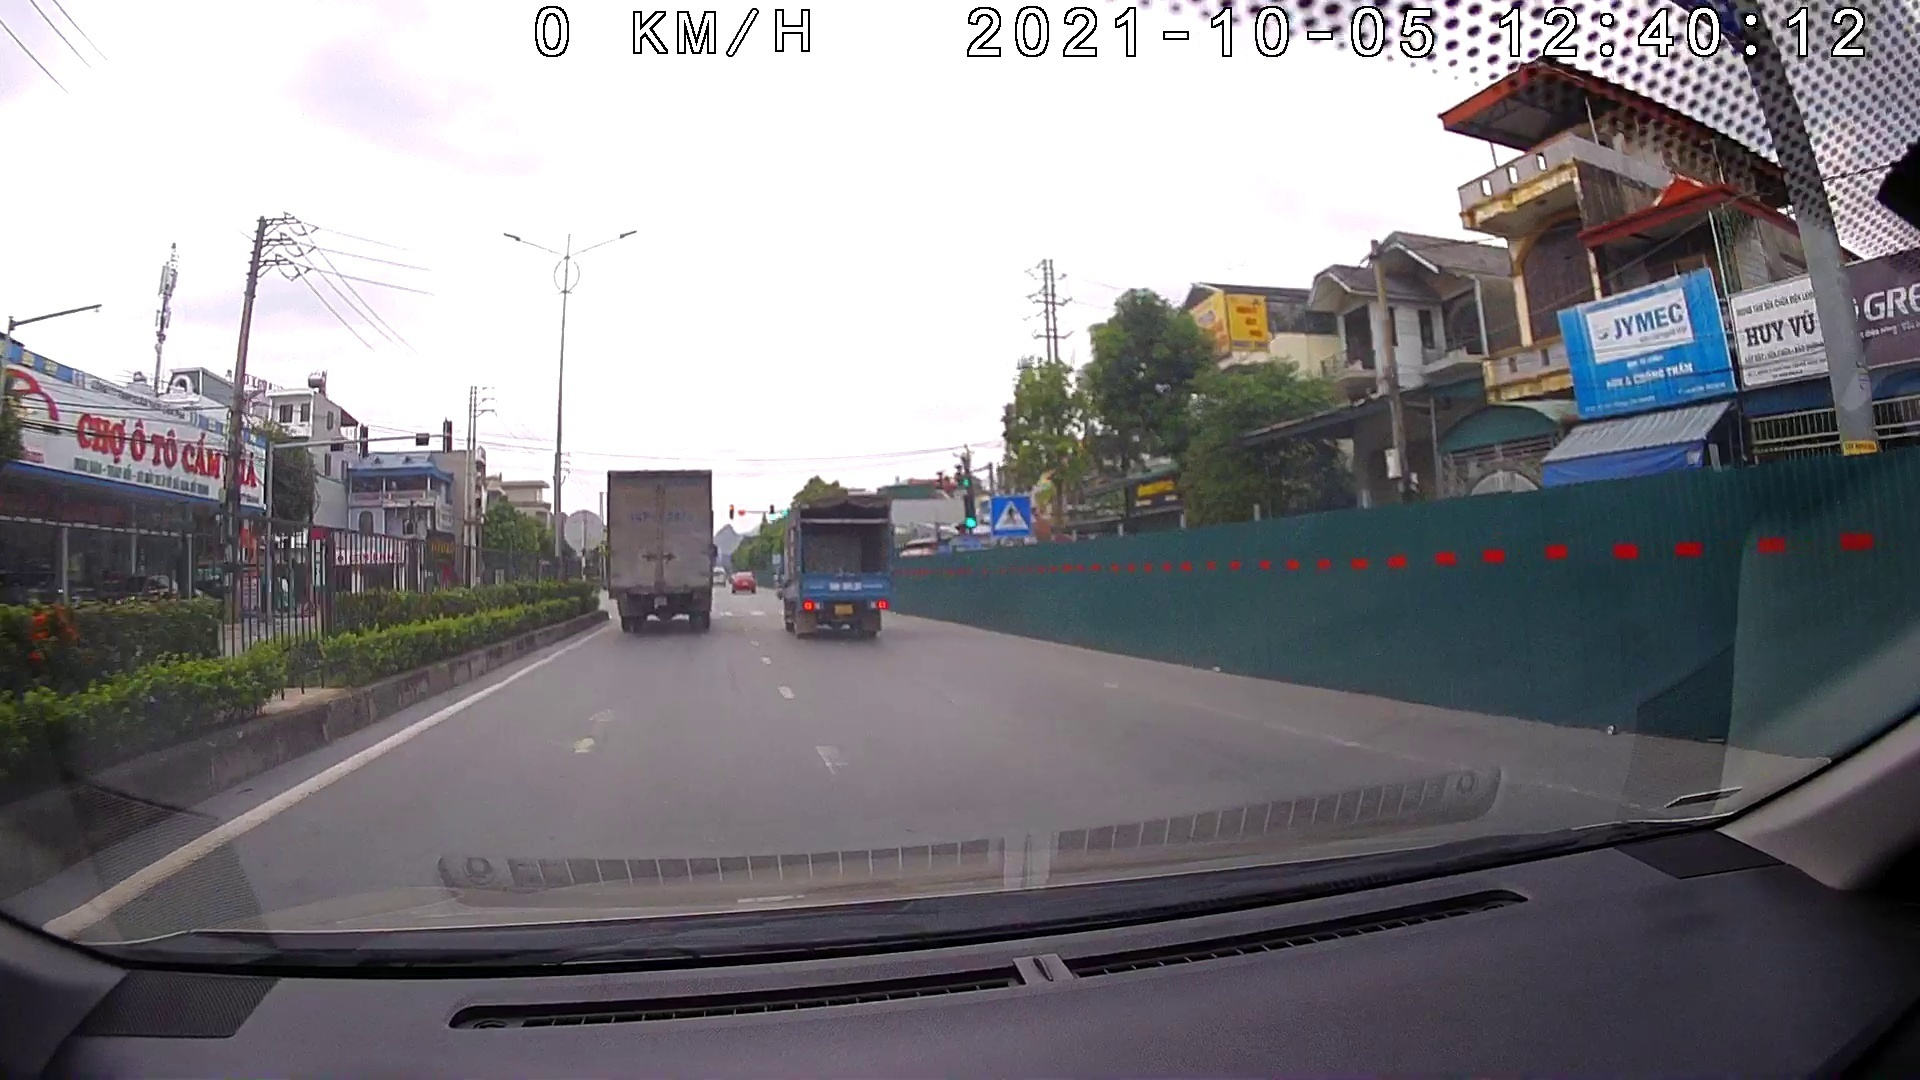Nguoi di bo: (992, 495, 1033, 537)
